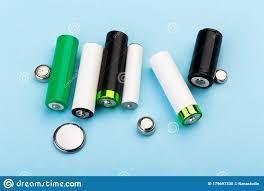AA: (149, 50, 205, 128), (44, 33, 80, 113), (96, 29, 130, 110), (70, 42, 104, 121)
AAA: (122, 43, 144, 113)
COIN: (52, 122, 87, 155), (136, 116, 157, 138)
